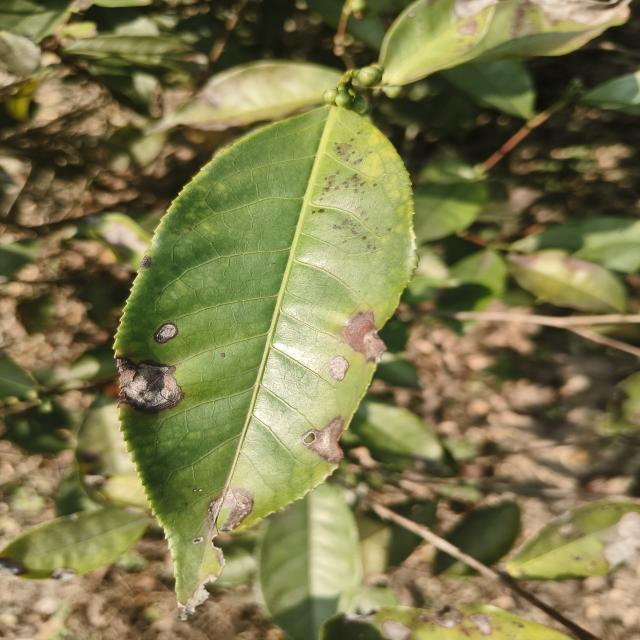Leaf: (114, 106, 415, 609), (258, 484, 362, 640), (155, 60, 342, 130), (0, 506, 151, 579), (506, 500, 640, 581), (379, 0, 498, 85), (476, 0, 630, 61), (343, 400, 450, 476), (507, 249, 627, 314), (511, 217, 640, 273), (76, 395, 137, 505), (439, 61, 535, 120), (444, 501, 520, 566), (413, 182, 487, 243), (439, 249, 507, 311), (64, 34, 190, 66), (356, 515, 424, 573), (106, 127, 167, 172), (374, 352, 419, 389), (396, 500, 436, 526), (435, 551, 473, 576)
